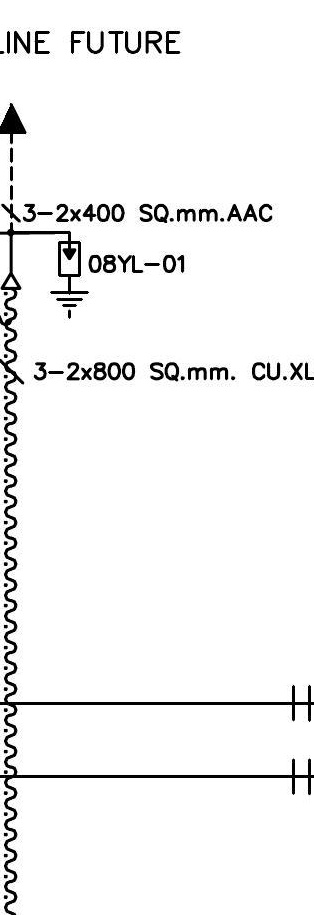115_buffer: (292, 685, 311, 722), (292, 758, 311, 795)
115_la: (49, 240, 90, 320)
